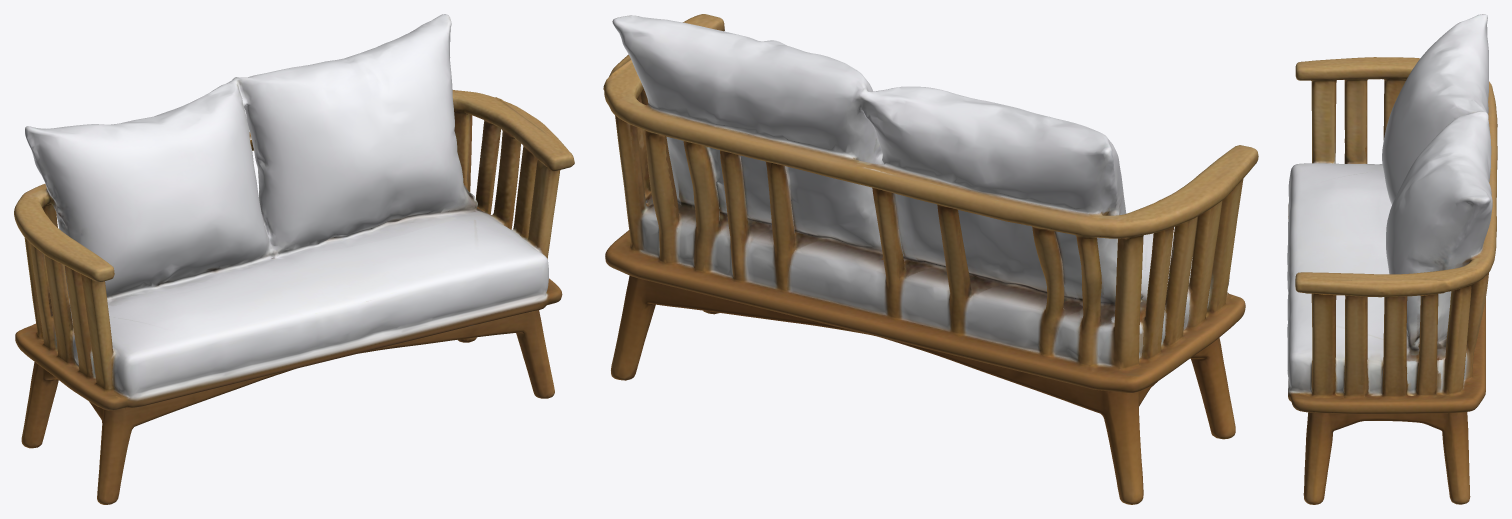
Rendered from product-bohemian-outdoor-wooden-loveseat-with-cushions-02.glb.
The picture shows the model from 3 angles, left to right: view 1: azimuth 30°, elevation 25°; view 2: azimuth 150°, elevation 25°; view 3: azimuth 270°, elevation 25°; orthographic projection. The views are drawn at different scales.
Visible parts, largest first — view 1: geometry_0; view 2: geometry_0; view 3: geometry_0.
Boxes of the visible parts, left/top/right/bottom form: geometry_0: left=14, top=14, right=574, bottom=504; geometry_0: left=603, top=14, right=1258, bottom=504; geometry_0: left=1287, top=14, right=1497, bottom=504.
Size of the model in its own units: 1.98 by 1.2 by 0.7606.
1 material, 1 textured.
